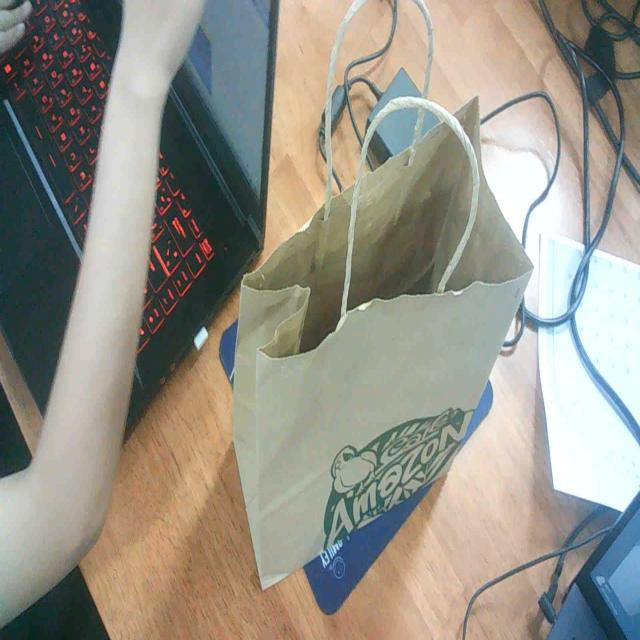bag: (195, 127, 527, 613)
